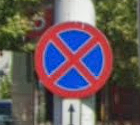oprirea_interzisa: (30, 18, 120, 102)
